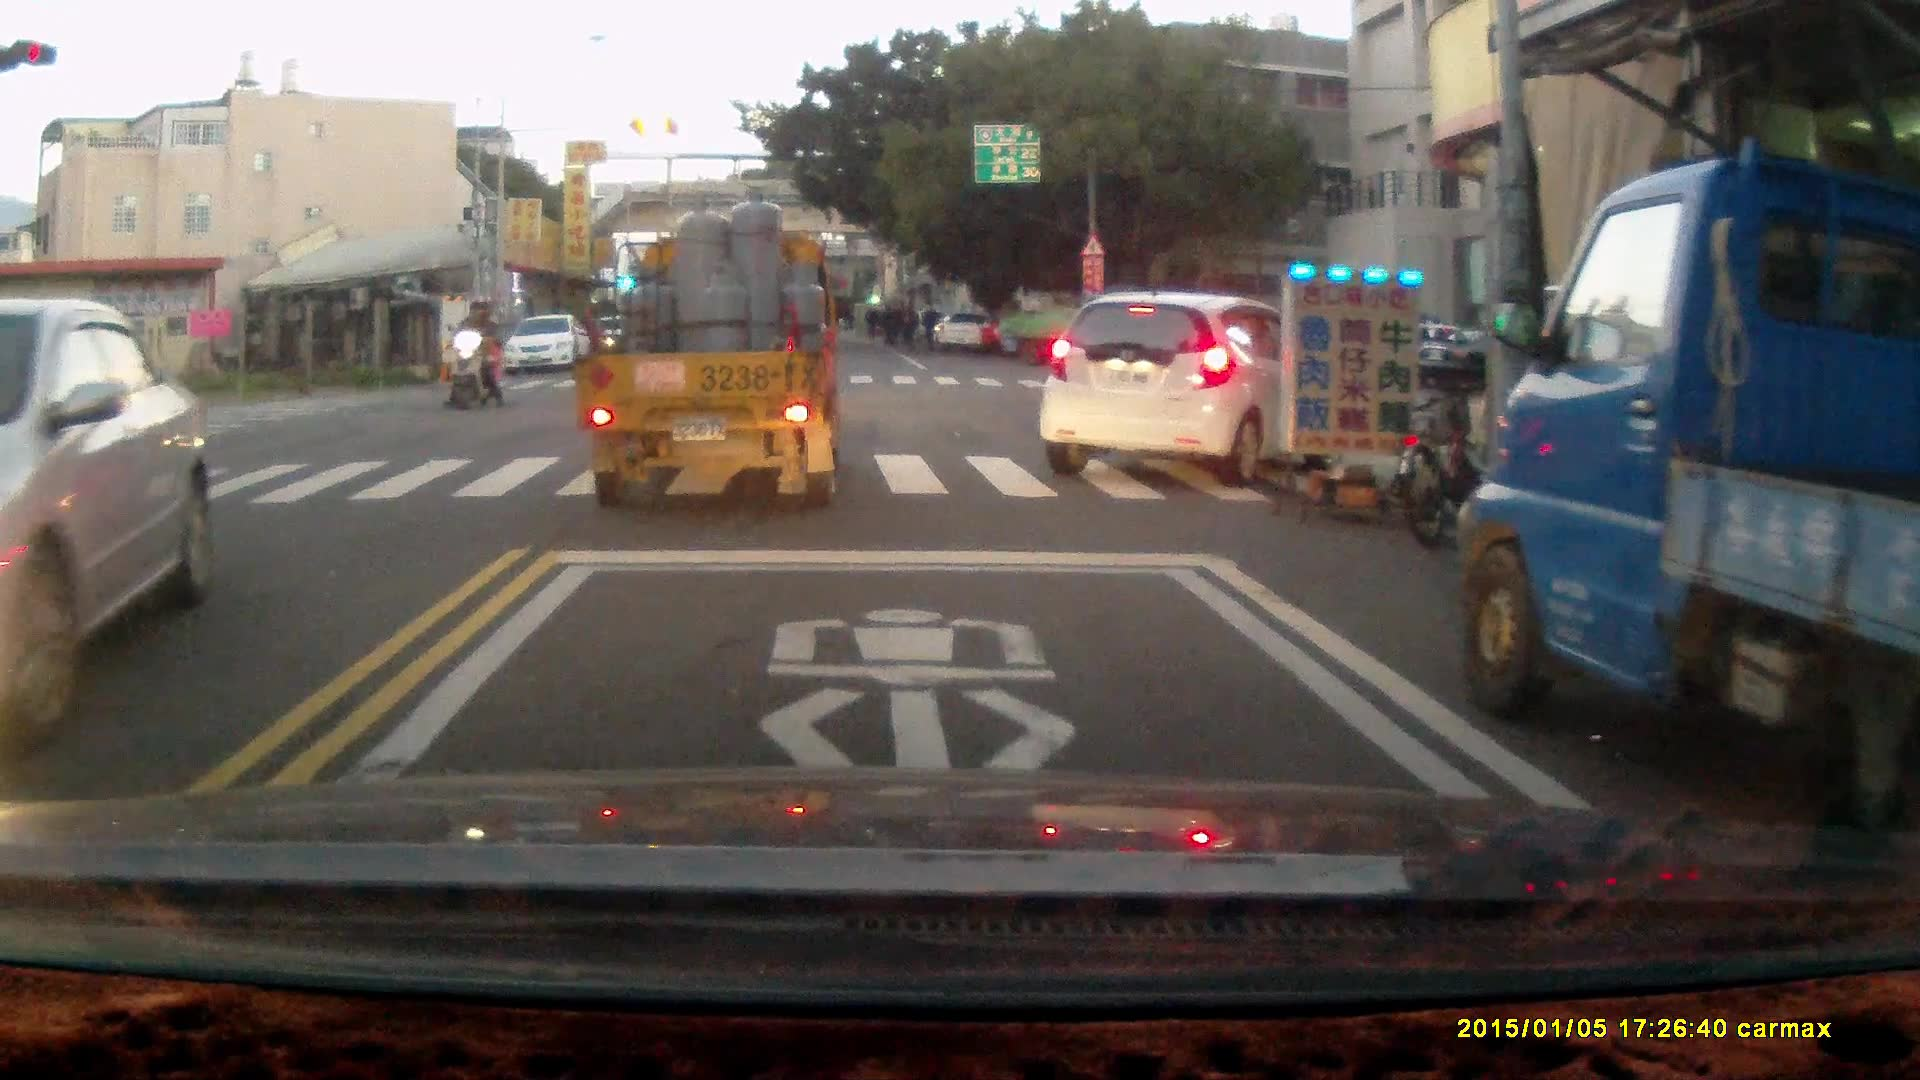rider: (444, 299, 502, 410)
vehicle: (1447, 156, 1920, 813), (1, 295, 210, 752), (573, 191, 847, 513), (1035, 288, 1316, 469), (1002, 284, 1169, 367), (507, 312, 588, 379)
